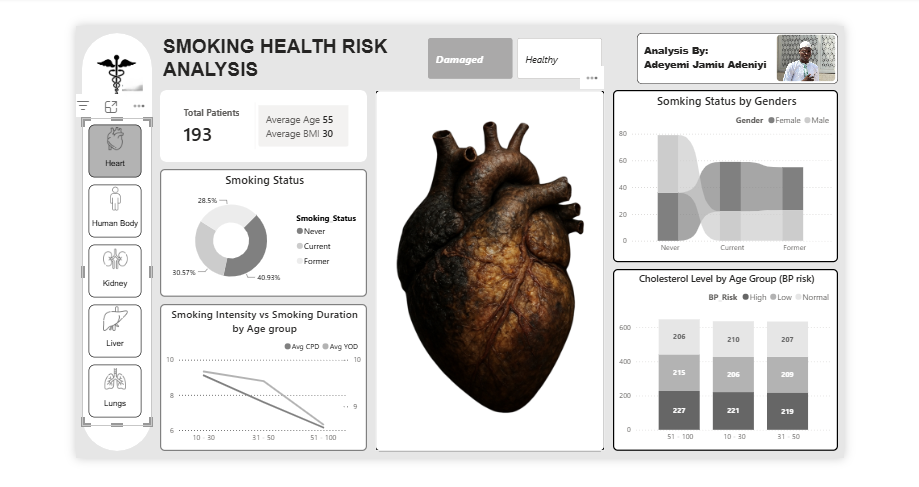

Layout of this report page (visuals, bound fields, positions):
{"tool":"powerbi","page":{"name":"Page 1","canvas":[1280,720],"ordinal":0},"visuals":[{"type":"shape","box":[10,11.7,116.7,696.7],"z":0},{"type":"shape","box":[140,106.7,345,120],"z":1000},{"type":"advancedSlicerVisual","fields":{"Values":["condition.Organ_Condition"]},"box":[581.7,15,300,78.3],"z":2000},{"type":"image","box":[498.3,106.7,383.3,601.7],"z":3000},{"type":"ChicletSlicer1448559807354","fields":{"Category":["Organs.Organ"],"Image":["Organs.Icon_URL"]},"box":[10.1,154.1,116.6,512.6],"z":4000},{"type":"cardVisual","fields":{"Data":["Count(health_dataset.Patient_ID)"]},"box":[150,110,326.7,113.3],"z":5000},{"type":"donutChart","title":"Smoking Status","fields":{"Category":["health_dataset.Smoking_Status"],"Y":["CountNonNull(health_dataset.Smoking_Status)"]},"box":[140,238.3,345,213.3],"z":6000},{"type":"lineChart","title":"Smoking Intensity vs Smoking Duration by Age group","fields":{"Category":["health_dataset.Age groups"],"Y":["Avg(health_dataset.Cigarettes_Per_Day)"],"Y2":["Avg(health_dataset.Years_of_Smoking)"]},"box":[140,463.3,345,245],"z":7000},{"type":"ribbonChart","title":"Somking Status by Genders","fields":{"Category":["health_dataset.Smoking_Status"],"Series":["health_dataset.Gender"],"Y":["CountNonNull(health_dataset.Gender)"]},"box":[895,106.7,375,286.7],"z":8000},{"type":"columnChart","title":"Cholesterol Level by Age Group (BP risk)","fields":{"Series":["health_dataset.BP_Risk"],"Category":["health_dataset.Age groups"],"Y":["Avg(health_dataset.Cholesterol_Level)"]},"box":[895,405,375,303.3],"z":9000},{"type":"image","box":[23.3,38.3,88.3,93.3],"z":10000},{"type":"textbox","box":[140,11.7,403.3,85],"z":11000},{"type":"shape","box":[935,11.7,335,85],"z":11500},{"type":"image","box":[1166,14,100,80],"z":12000},{"type":"textbox","box":[942,23.3,218.3,61.7],"z":14000}]}

Visuals, with their boxes on the page's 1280x720 design canvas (x1, y1, x2, y2). These are canvas units, not pixel positions in the 919x487 screenshot, which may show the page scaled, cropped or inside an application window:
shape: bbox=[10, 12, 127, 708]
shape: bbox=[140, 107, 485, 227]
advancedSlicerVisual - condition.Organ_Condition: bbox=[582, 15, 882, 93]
image: bbox=[498, 107, 882, 708]
ChicletSlicer1448559807354 - Organs.Organ x Organs.Icon_URL: bbox=[10, 154, 127, 667]
cardVisual - Count(health_dataset.Patient_ID): bbox=[150, 110, 477, 223]
"Smoking Status" donutChart: bbox=[140, 238, 485, 452]
"Smoking Intensity vs Smoking Duration by Age group" lineChart: bbox=[140, 463, 485, 708]
"Somking Status by Genders" ribbonChart: bbox=[895, 107, 1270, 393]
"Cholesterol Level by Age Group (BP risk)" columnChart: bbox=[895, 405, 1270, 708]
image: bbox=[23, 38, 112, 132]
textbox: bbox=[140, 12, 543, 97]
shape: bbox=[935, 12, 1270, 97]
image: bbox=[1166, 14, 1266, 94]
textbox: bbox=[942, 23, 1160, 85]
